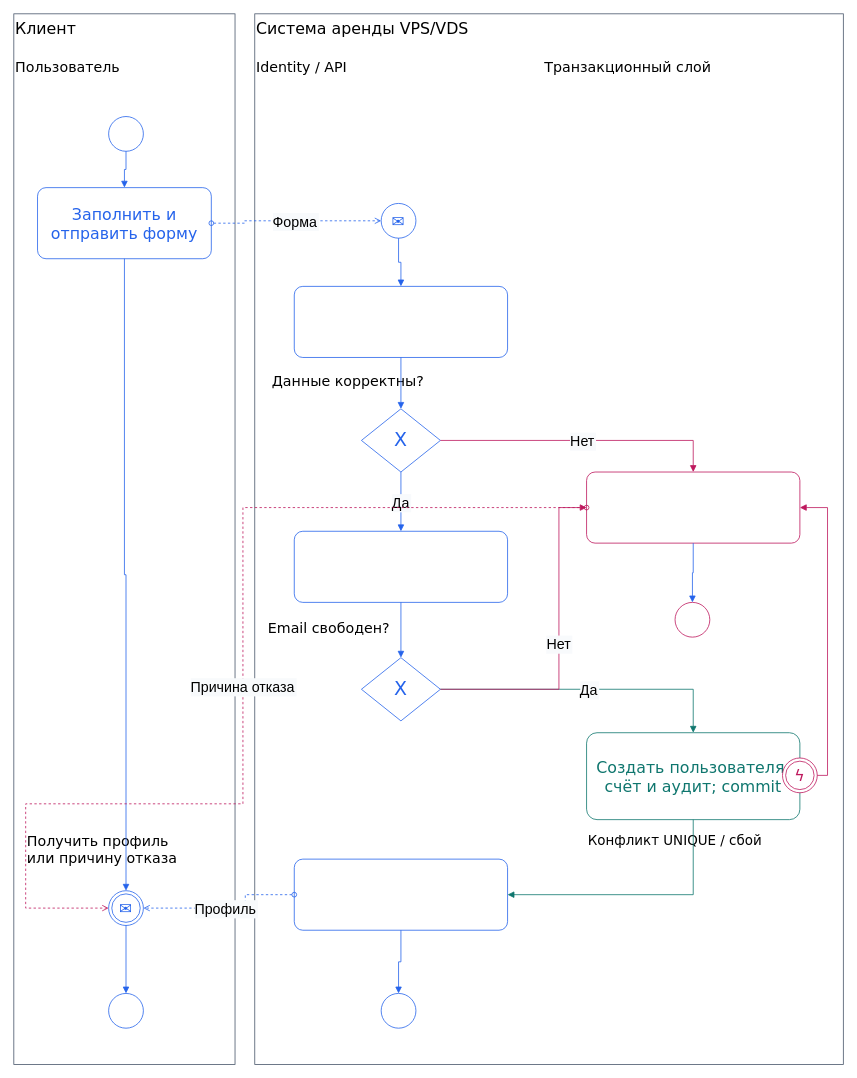
Image size: 857x1078. Some labels were removed from this diagram. Here are the shapes that lost their labels. From the top down, the centre of each, then its label:
At (x=400, y=321): "Проверить формат и политику пароля".
At (x=693, y=507): "Вернуть ошибку; откатить при конфликте".
At (x=400, y=566): "Проверить уникальность email".
At (x=400, y=894): "Вернуть созданный профиль и счёт".
